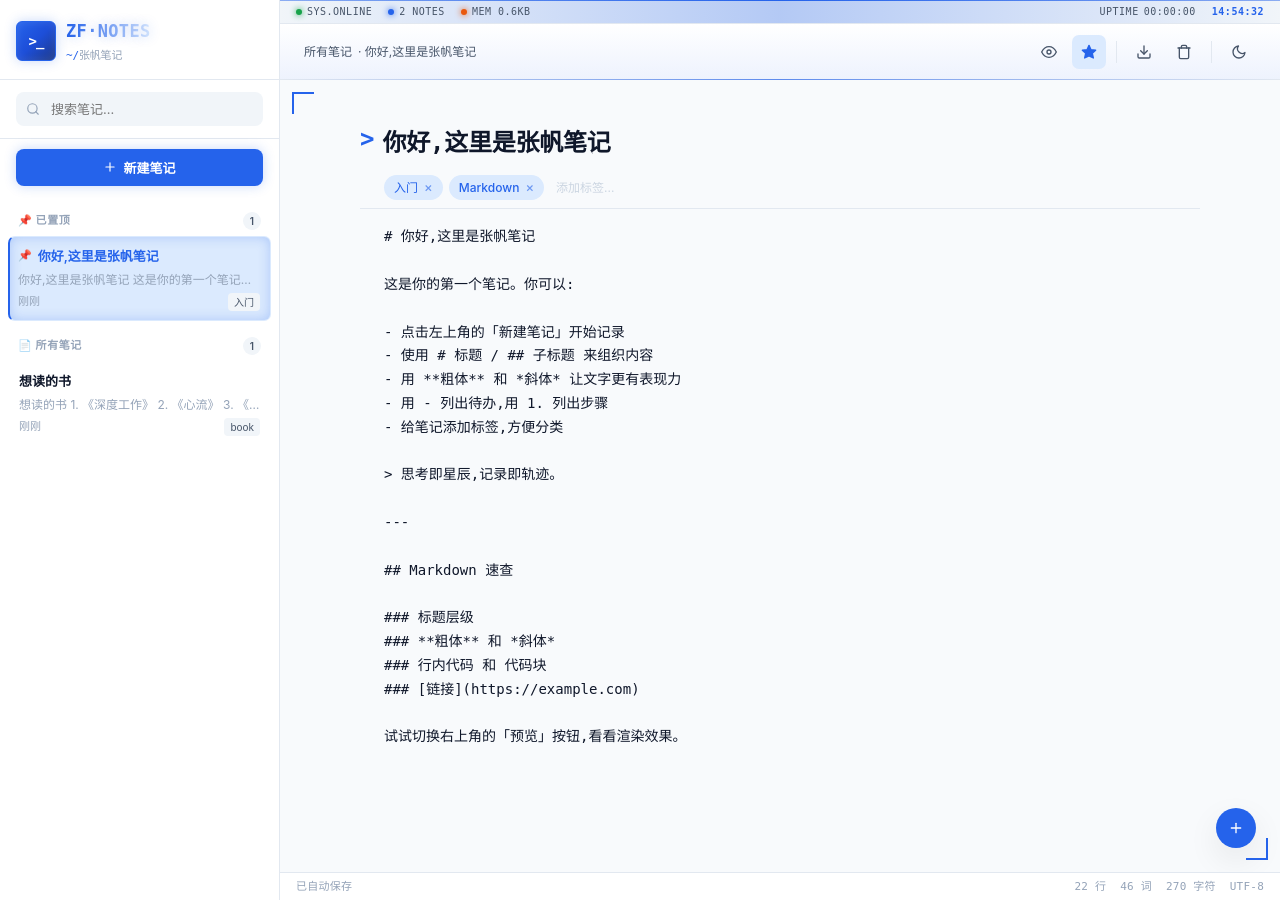
it: App integration › creating a new note -> edit -> debounced save
Click the button with test id "new-note-btn" at (140, 167), box [16,149,263,186]
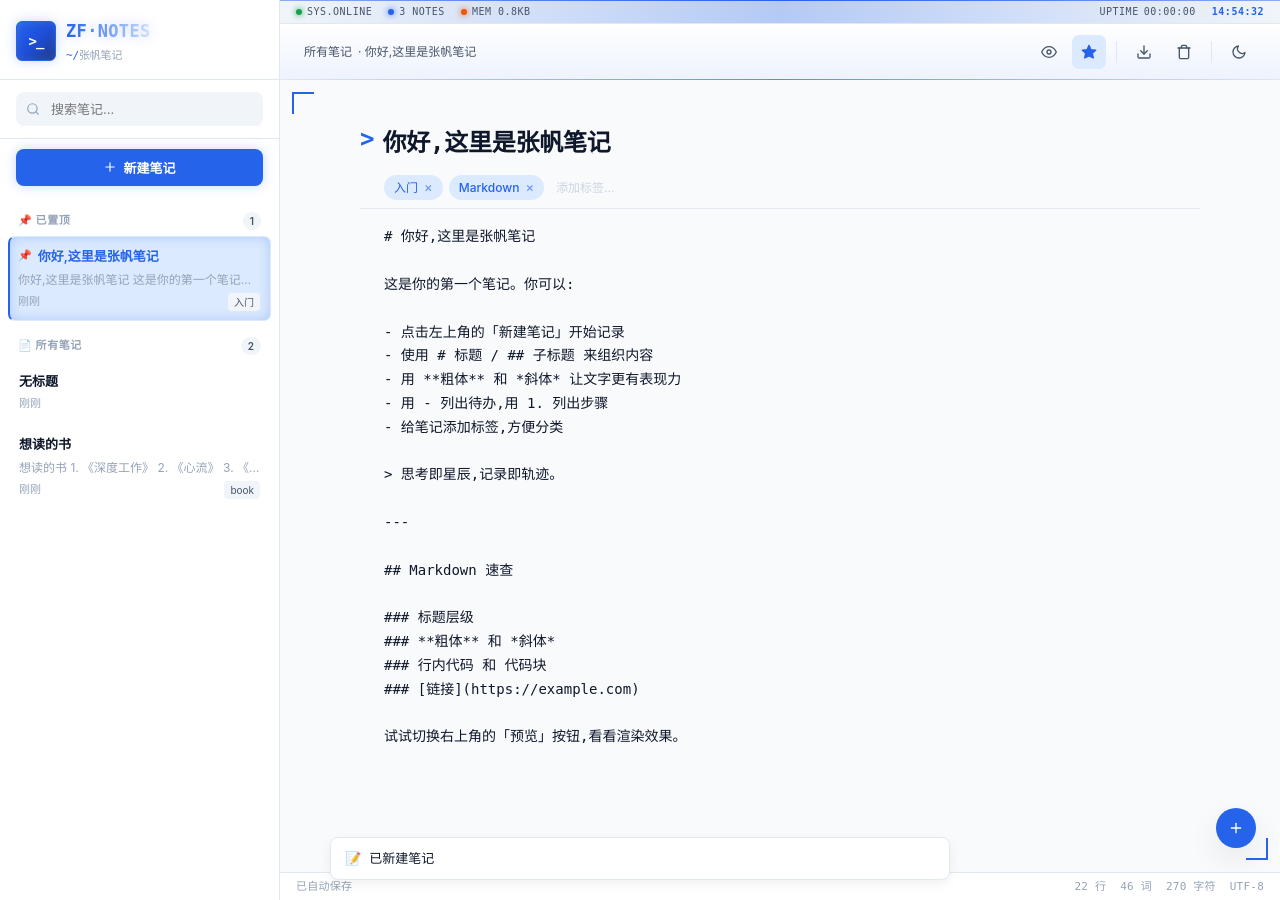
Replace the text in the field with test id "title-input" with "Hello" at (791, 140), box [382,112,1200,167]
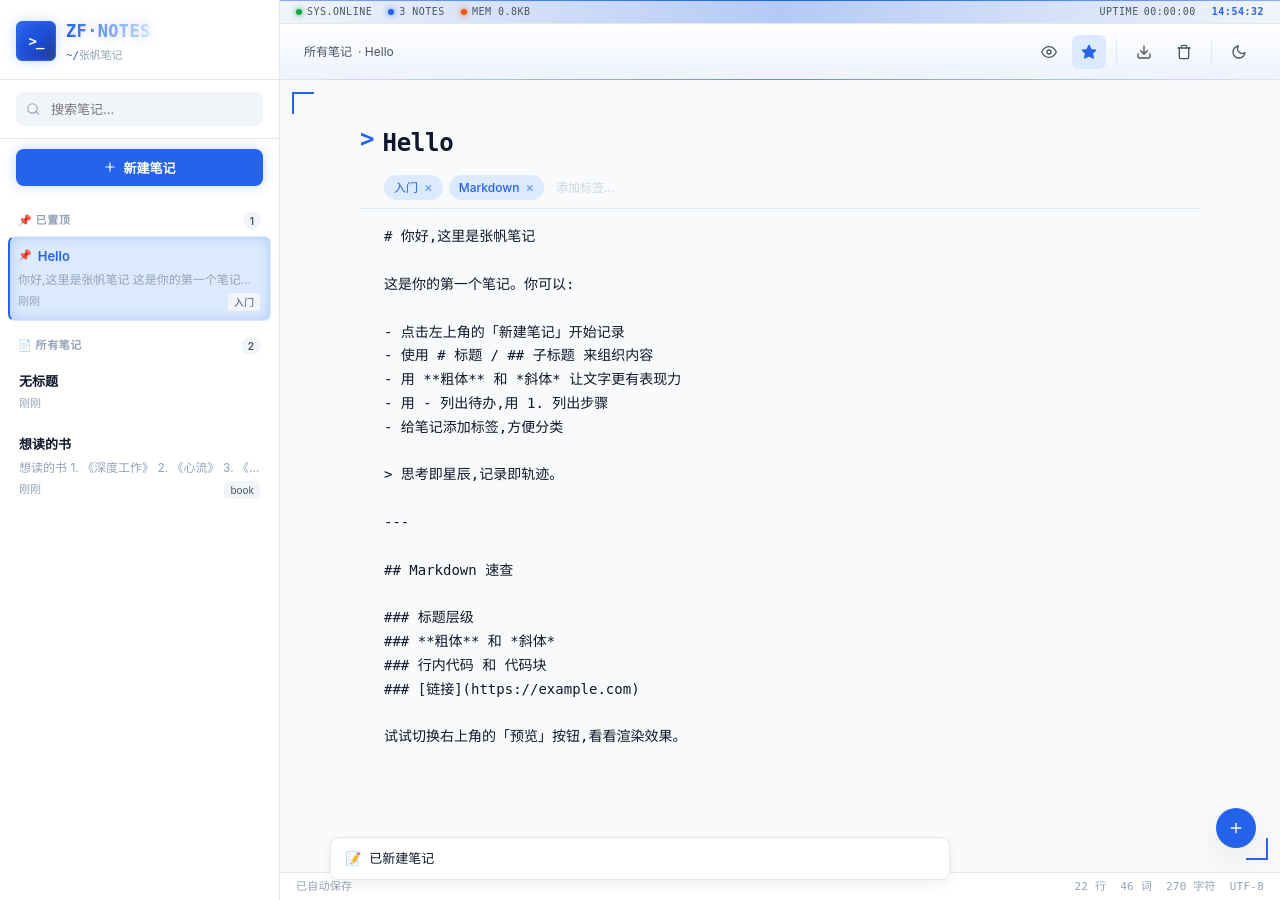
Note:  编辑 body
Replace the text in the text box with test id "body-textarea" with "World" at (780, 511), box [360,209,1200,812]
Wait 500 ms
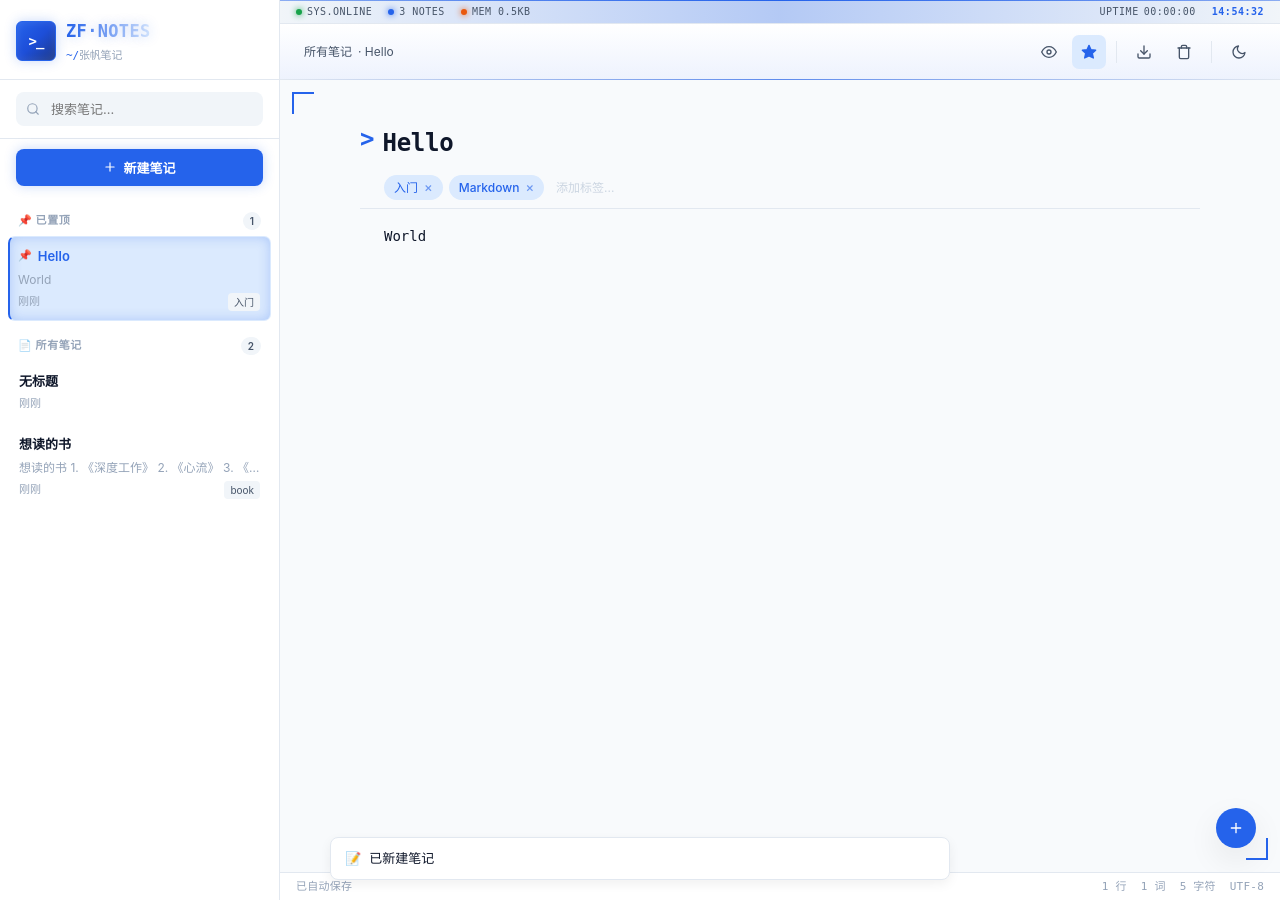
Expected: the text "World" is shown, [18,272,51,287]
